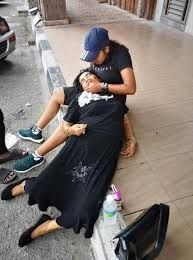falling: (7, 58, 127, 257)
